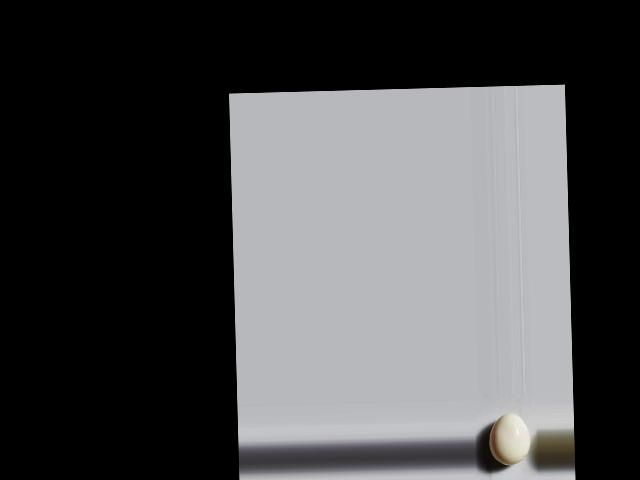egg: (488, 413, 530, 466)
